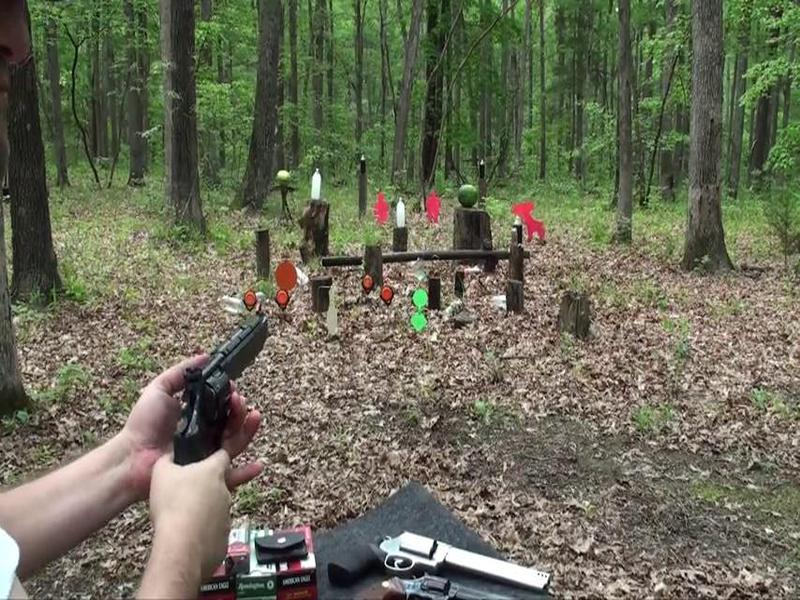Revolver: (153, 296, 285, 490)
